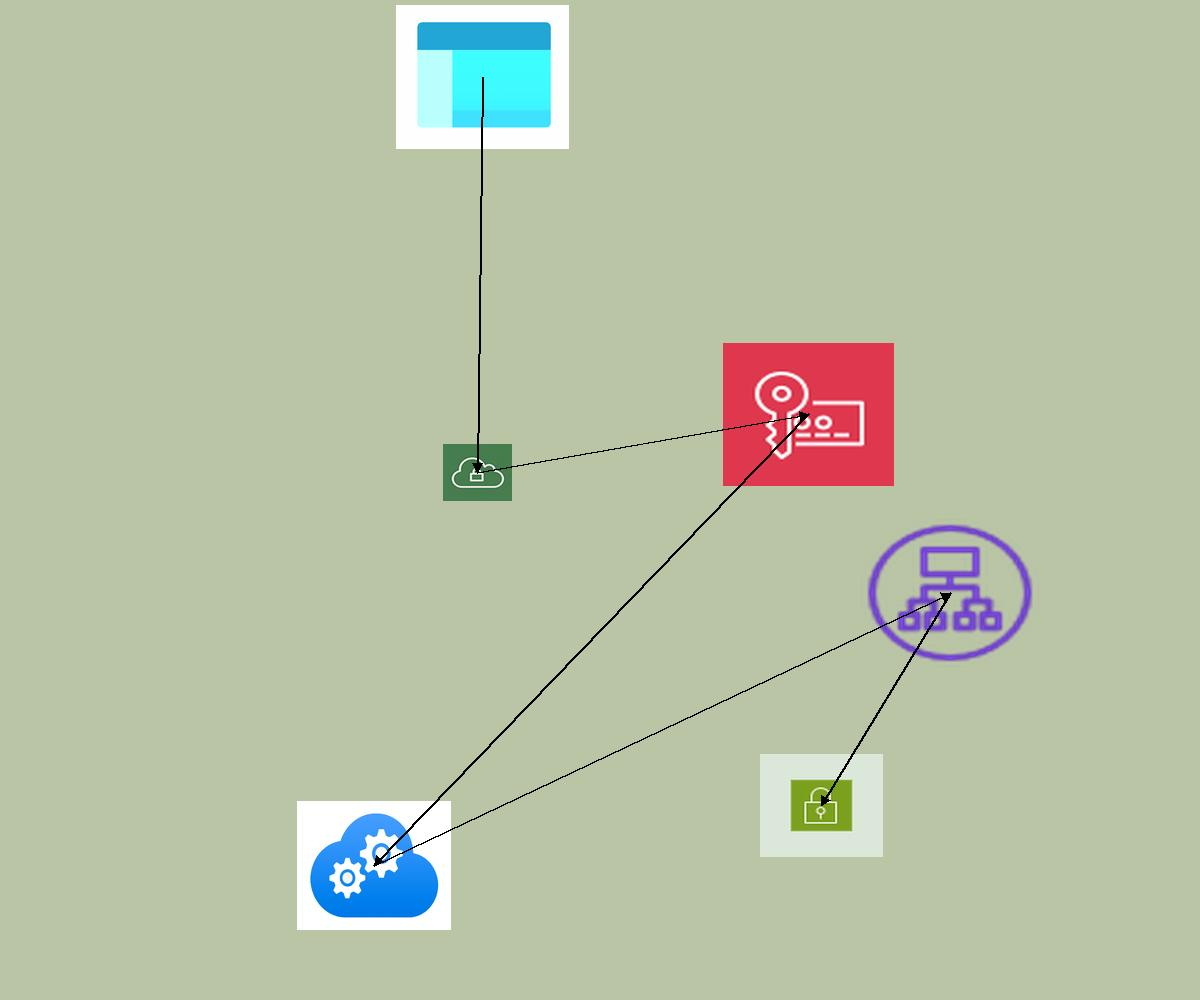AWS-Key-Management-Service: (723, 343, 894, 486)
AWS-Private_vpc: (443, 444, 512, 501)
AWS-Public-subnet: (760, 754, 883, 857)
AWS-Res_Elastic-Load-Balancing_Application-Load-Balancer: (861, 519, 1039, 667)
Azure_cloud_services: (297, 801, 451, 930)
Azure_management-portal: (396, 5, 569, 149)
